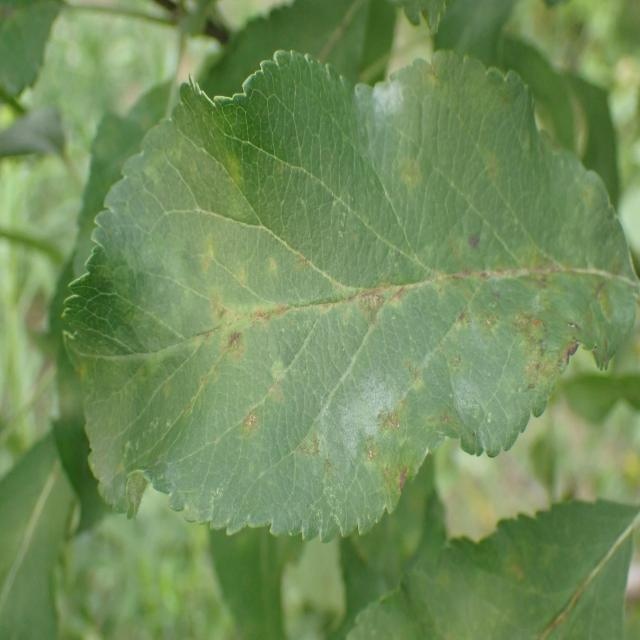scab: (142, 173, 638, 524)
